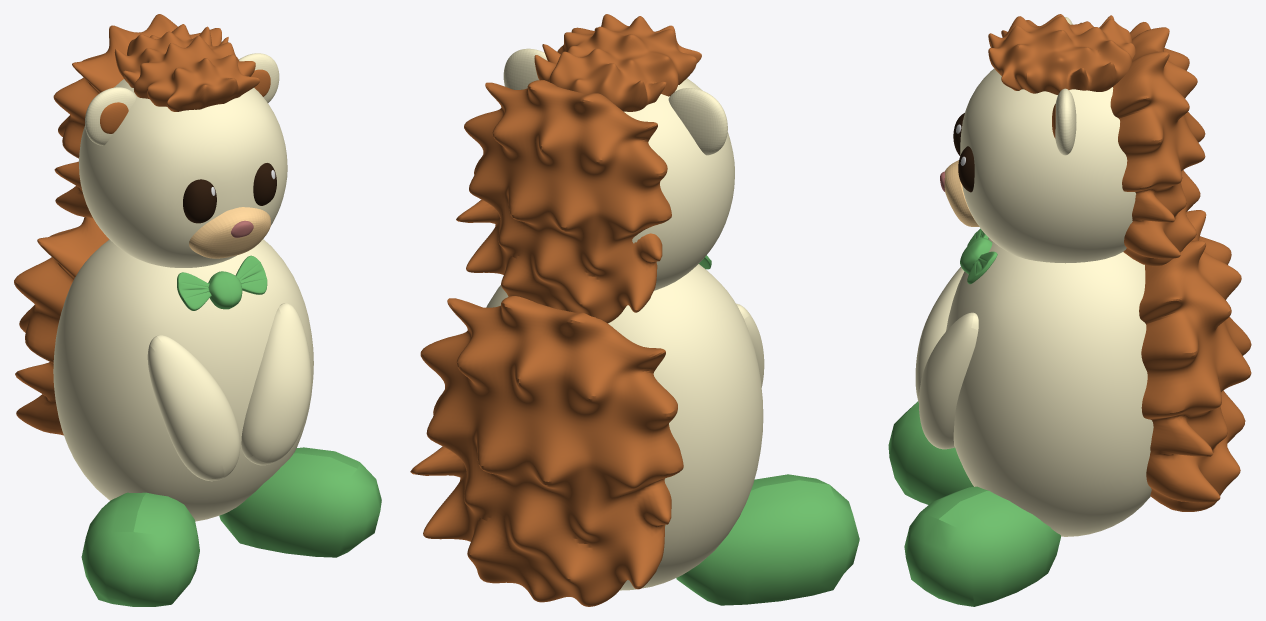
Rendered from cuerpo.glb.
3 views of the same model, side by side, from view 1: azimuth 30°, elevation 25°; view 2: azimuth 150°, elevation 25°; view 3: azimuth 270°, elevation 25° (orthographic). The views are drawn at different scales.
Visible parts, largest first — view 1: Cube.012, Cube, Cube.004, Cube.005, Cube.006, Cube.013, Cube.003, Cube.007, Cube.014, Cube.019, Cube.008, Cube.002 (+4 smaller); view 2: Cube.003, Cube.014, Cube.012, Cube.005, Cube, Cube.013, Cube.002, Cube.001, Cube.006; view 3: Cube.012, Cube, Cube.003, Cube.014, Cube.004, Cube.013, Cube.007, Cube.005, Cube.006, Cube.001, Cube.019, Cube.008 (+1 smaller).
Part boxes in pixels (box(x1,y1,x2,y2)): Cube.012: box(53, 239, 313, 521); Cube: box(79, 79, 287, 267); Cube.004: box(219, 447, 381, 557); Cube.005: box(81, 492, 199, 606); Cube.006: box(147, 335, 240, 481); Cube.013: box(114, 24, 259, 111); Cube.003: box(14, 217, 109, 435); Cube.007: box(241, 303, 311, 465); Cube.014: box(53, 14, 221, 218); Cube.019: box(177, 255, 267, 310); Cube.008: box(189, 207, 270, 258); Cube.002: box(85, 87, 136, 145); Cube.003: box(410, 296, 683, 606); Cube.014: box(456, 80, 671, 323); Cube.012: box(486, 264, 763, 590); Cube.005: box(676, 474, 859, 605); Cube: box(624, 78, 734, 290); Cube.013: box(534, 14, 701, 111); Cube.002: box(668, 88, 727, 155); Cube.001: box(503, 48, 547, 89); Cube.006: box(736, 303, 764, 387); Cube.012: box(946, 238, 1153, 536); Cube: box(960, 68, 1135, 263); Cube.003: box(1139, 210, 1251, 511); Cube.014: box(1110, 22, 1205, 266); Cube.004: box(904, 486, 1060, 606); Cube.013: box(988, 14, 1135, 94); Cube.007: box(919, 312, 978, 449); Cube.005: box(888, 401, 973, 504); Cube.006: box(915, 267, 964, 402); Cube.001: box(1055, 88, 1076, 155); Cube.019: box(960, 228, 997, 284); Cube.008: box(944, 160, 979, 226).
Size of the model in its own units: 3.87 by 6.16 by 3.92.
